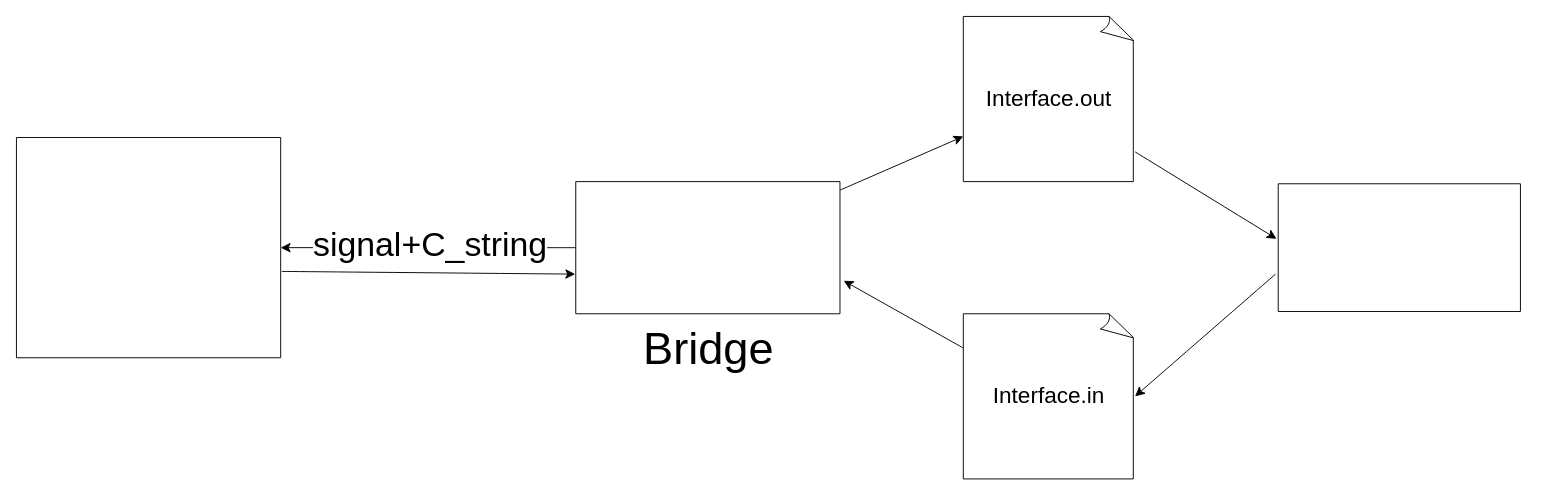
Some shapes in this 1553 by 495 pixel diagram are drawn without their labels. Here are the shapes that lost their labels. From the top down, the centre of each, then its label:
point (148, 247): Firmware
point (1398, 247): Control Panel
